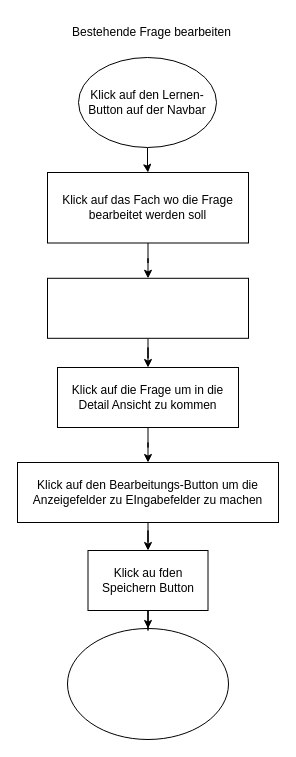
This 296x757 diagram has some shape labels left out. The box of each missing label's shape, as (x1, y1, x2, y2) in pixels:
Klick auf das Themengebiet wo die Frage bearbeitet werden soll: (46, 277, 248, 338)
Veränderung zurück auf Anzeige: (66, 628, 228, 740)
